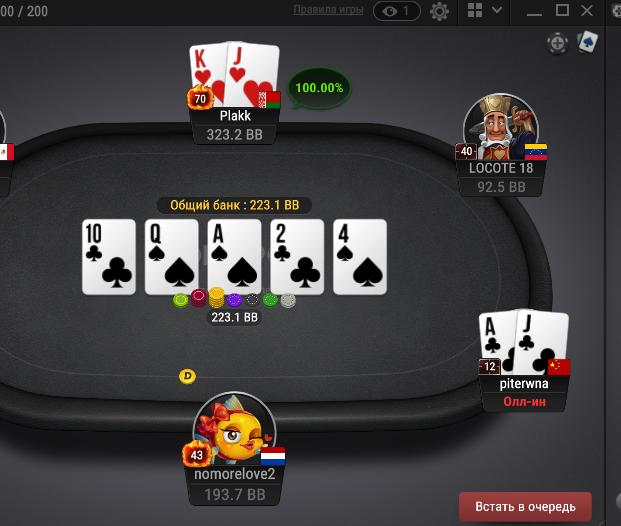10c: (82, 219, 135, 296)
2c: (272, 219, 324, 294)
4s: (334, 220, 385, 293)
Ac: (479, 311, 517, 376)
As: (209, 220, 263, 294)
Jc: (516, 309, 569, 379)
Jh: (227, 42, 279, 108)
Kh: (189, 43, 226, 106)
Qs: (145, 221, 198, 294)
